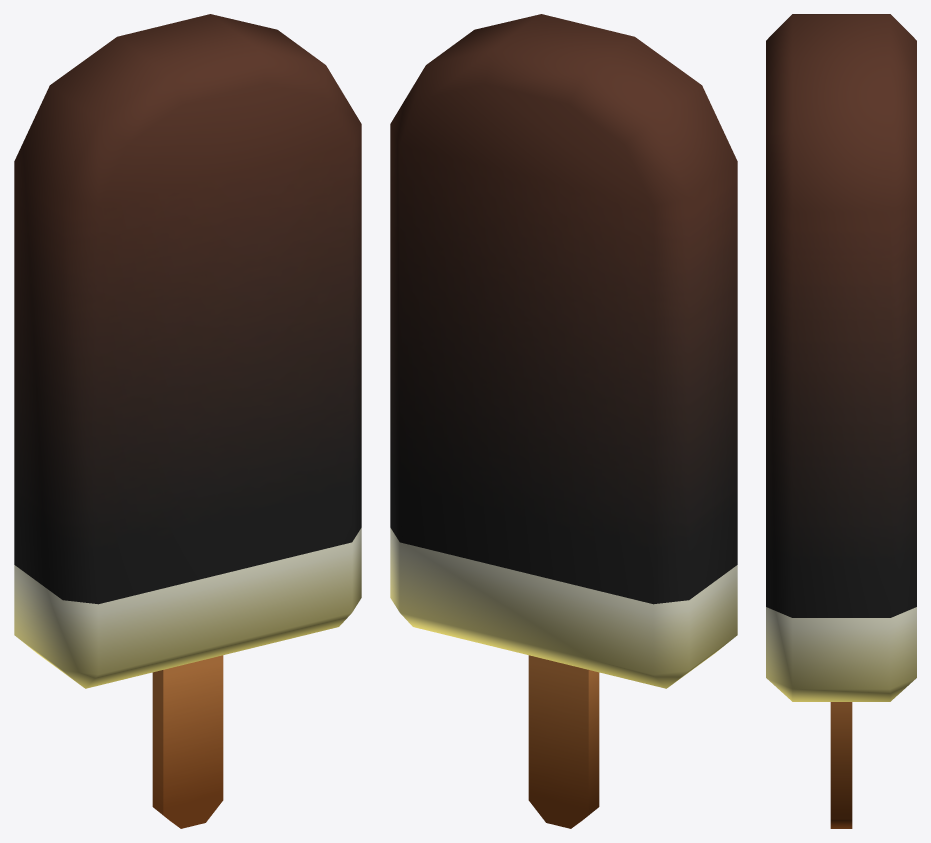
File: m_SimplePopsicle04.fbx
The picture shows the model from 3 angles, left to right: view 1: azimuth 30°, elevation 25°; view 2: azimuth 150°, elevation 25°; view 3: azimuth 270°, elevation 25°; orthographic projection.
Visible parts, largest first — view 1: m_SimplePopsicle04; view 2: m_SimplePopsicle04; view 3: m_SimplePopsicle04.
Part boxes in pixels (<box>): m_SimplePopsicle04: <box>14,14,361,828</box>; m_SimplePopsicle04: <box>390,14,737,828</box>; m_SimplePopsicle04: <box>766,14,916,828</box>.
Bounding box in the file's own units: 9.24 × 22.99 × 4.
